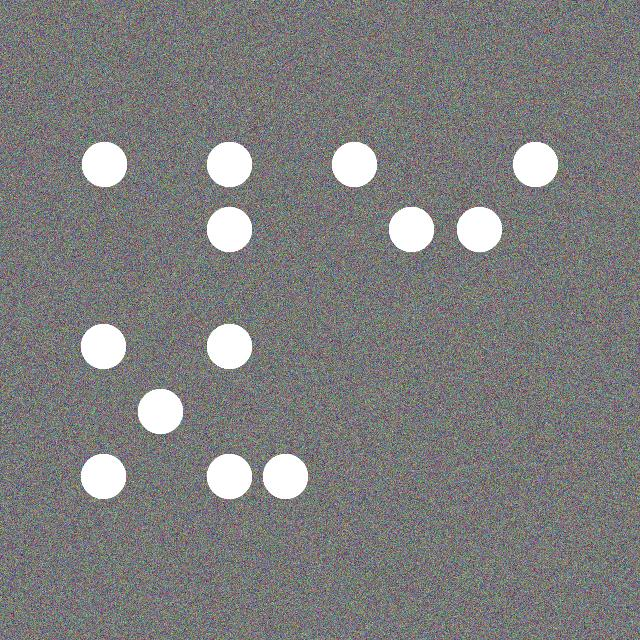A: (79, 138, 187, 308)
B: (205, 138, 312, 307)
E: (329, 135, 439, 309)
I: (452, 135, 565, 310)
O: (78, 319, 187, 507)
U: (202, 320, 315, 510)
